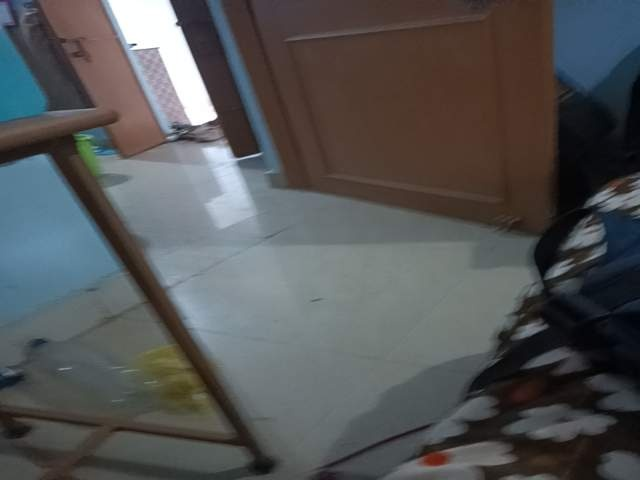pothole: (534, 403, 640, 480)
